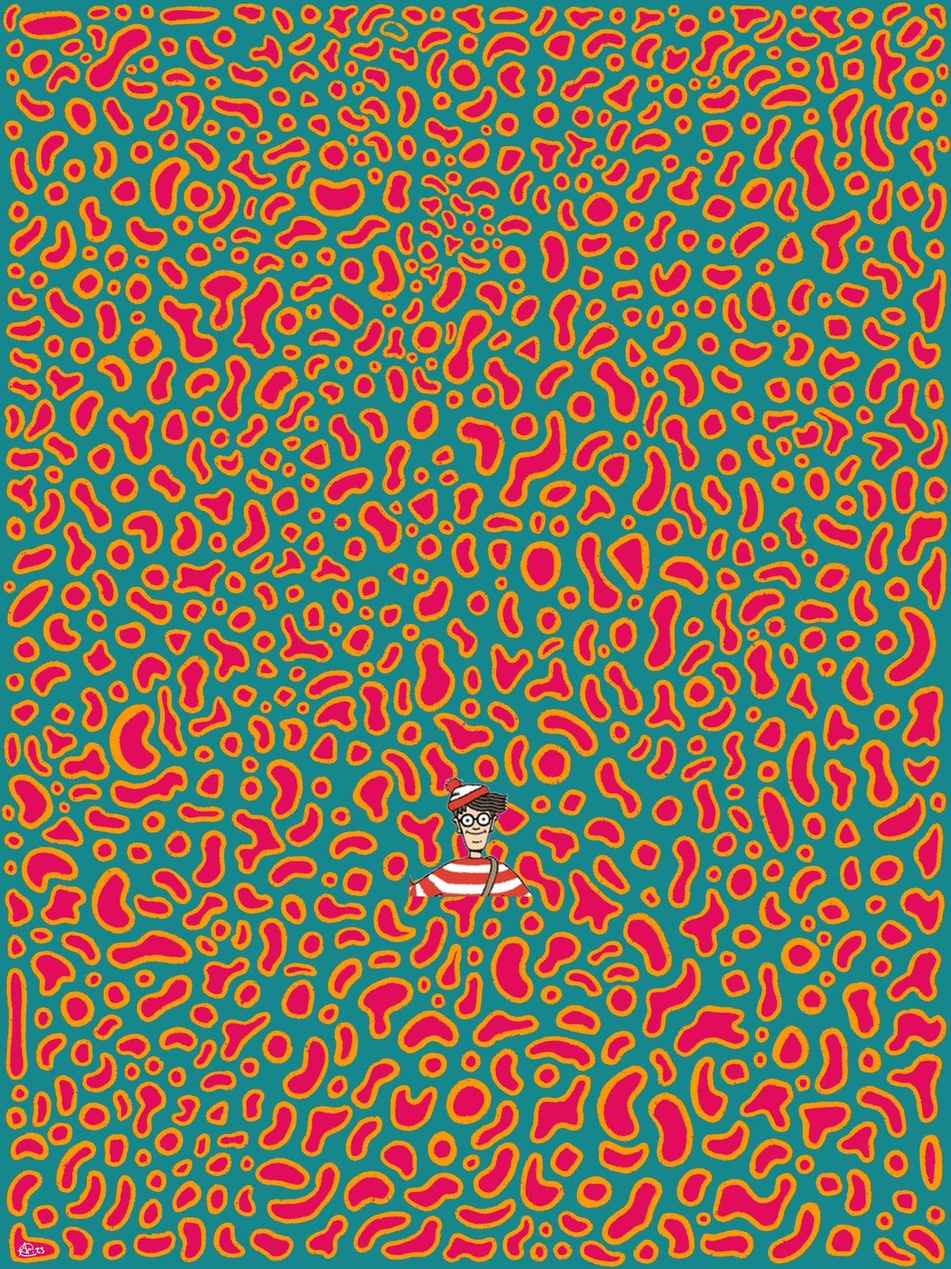waldo: (410, 775, 531, 896)
